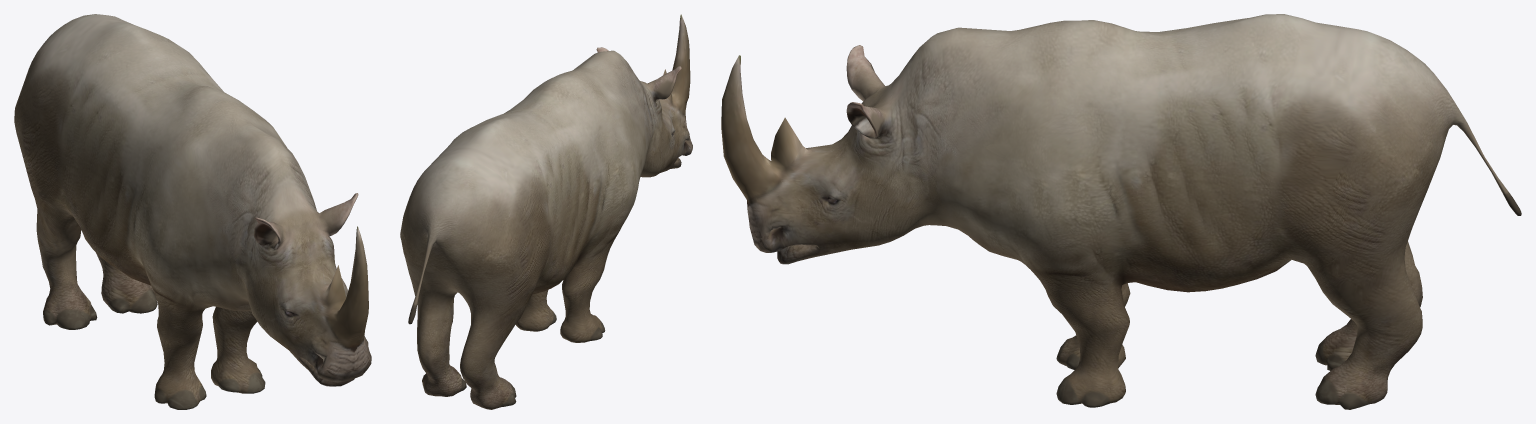
The picture shows the model from 3 angles, left to right: view 1: azimuth 30°, elevation 25°; view 2: azimuth 150°, elevation 25°; view 3: azimuth 270°, elevation 25°; orthographic projection. The views are drawn at different scales.
Parts seen in each view (by area): view 1: Object_2; view 2: Object_2; view 3: Object_2.
Part boxes in pixels (x1=…): Object_2: x1=14, y1=14, x2=371, y2=409; Object_2: x1=400, y1=14, x2=692, y2=409; Object_2: x1=721, y1=14, x2=1521, y2=409.
Size of the model in its own units: 0.986 by 1.98 by 3.91.
Materials: 1 (1 with a texture image).
